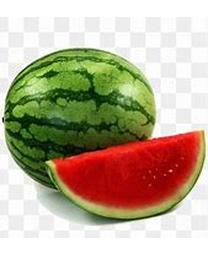watermelon: (4, 48, 157, 193), (42, 129, 205, 219)
